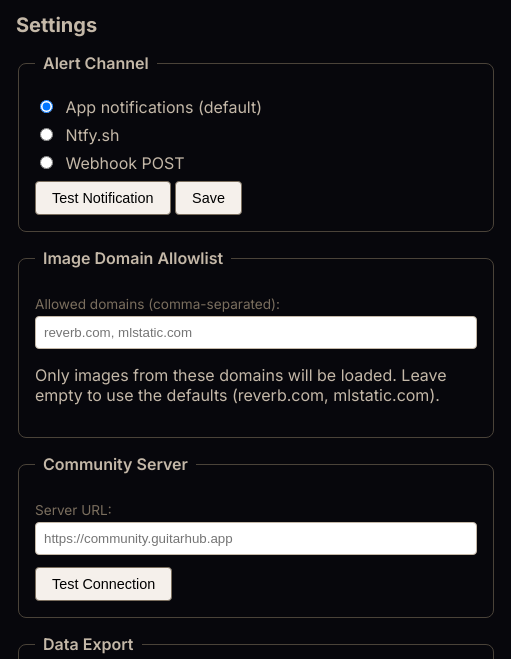
it: Settings › Community Server › test connection shows failure for unreachable server
Expected: the field labelled "Server URL:" is shown, [35,522,477,555]
Click the button "Test Connection" at (104,584), box [35,567,172,601]
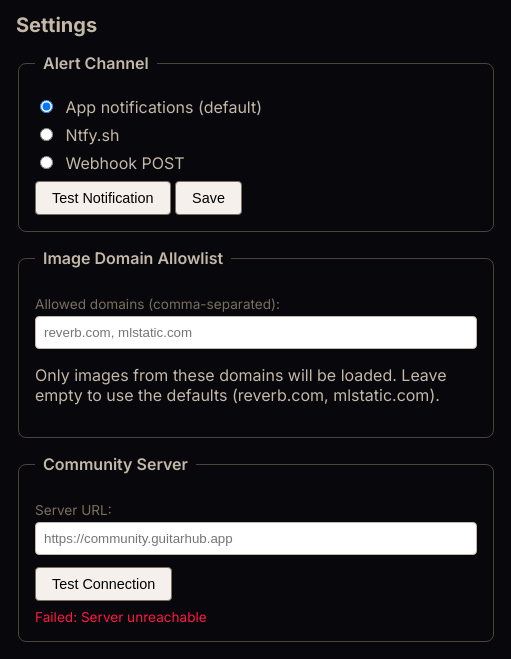
Result: the text "Failed: Server unreachable" is shown at [35,609,207,625]
